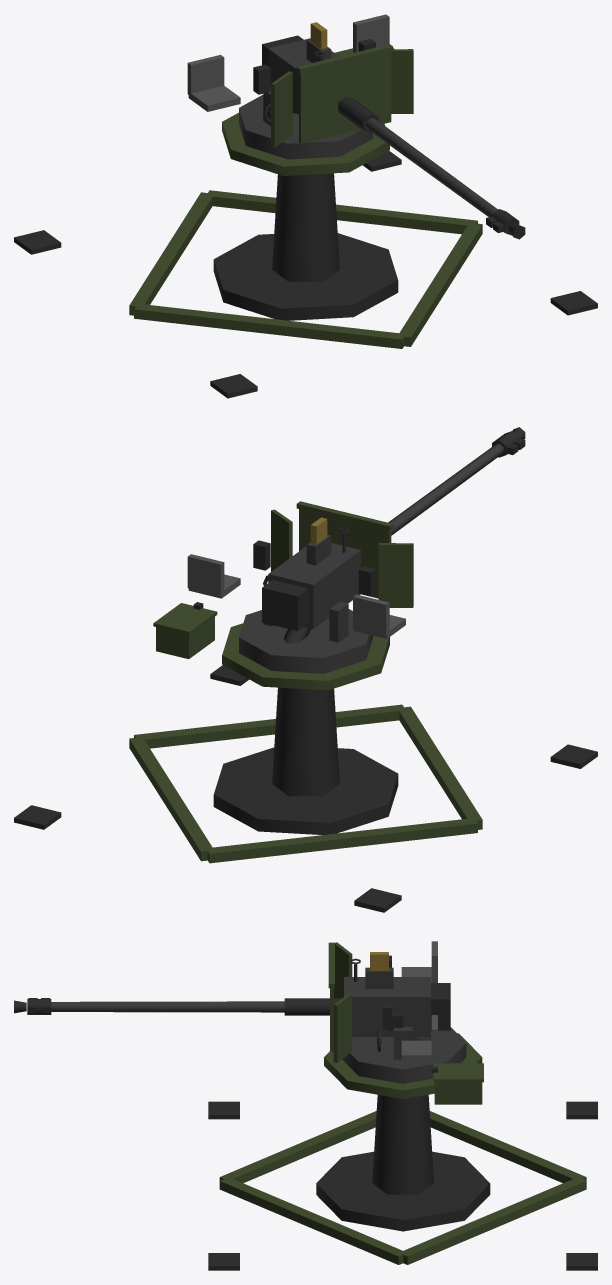
The picture shows the model from 3 angles, top to bottom: view 1: azimuth 30°, elevation 25°; view 2: azimuth 150°, elevation 25°; view 3: azimuth 270°, elevation 25°; orthographic projection. The views are drawn at different scales.
Visible parts, largest first — view 1: Mesh_TurntableBase, Mesh_Pedestal, Mesh_ShieldCenter, Mesh_LegBeam1, Mesh_Platform, Mesh_TraverseRing, Mesh_LegBeam3, Mesh_LegBeam0, Mesh_LegBeam2, Mesh_BarrelMain, Mesh_Receiver, Mesh_ShieldRight (+9 smaller); view 2: Mesh_TurntableBase, Mesh_Pedestal, Mesh_TraverseRing, Mesh_LegBeam2, Mesh_Receiver, Mesh_Platform, Mesh_LegBeam0, Mesh_LegBeam3, Mesh_ShieldCenter, Mesh_LegBeam1, Mesh_ShieldLeft, Mesh_Breech (+11 smaller); view 3: Mesh_TurntableBase, Mesh_Pedestal, Mesh_Receiver, Mesh_TraverseRing, Mesh_LegBeam0, Mesh_LegBeam3, Mesh_BarrelMain, Mesh_LegBeam1, Mesh_LegBeam2, Mesh_Platform, Mesh_ShieldRight, Mesh_AmmoBox (+11 smaller).
Part boxes in pixels (x1,y1,x2,y2): Mesh_TurntableBase: (213,233,398,320); Mesh_Pedestal: (272,173,339,281); Mesh_ShieldCenter: (299,52,391,143); Mesh_LegBeam1: (134,304,404,348); Mesh_Platform: (222,112,389,175); Mesh_TraverseRing: (239,95,372,159); Mesh_LegBeam3: (206,190,477,234); Mesh_LegBeam0: (398,223,482,346); Mesh_LegBeam2: (129,192,213,315); Mesh_BarrelMain: (366,118,497,217); Mesh_Receiver: (268,38,338,114); Mesh_ShieldRight: (391,49,413,113); Mesh_TurntableBase: (213,747,398,834); Mesh_Pedestal: (272,687,339,796); Mesh_TraverseRing: (239,609,372,673); Mesh_LegBeam2: (206,818,477,863); Mesh_Receiver: (268,543,360,628); Mesh_Platform: (222,623,389,690); Mesh_LegBeam0: (134,704,403,748); Mesh_LegBeam3: (129,737,213,861); Mesh_ShieldCenter: (299,509,391,598); Mesh_LegBeam1: (397,706,482,829); Mesh_ShieldLeft: (378,543,413,607); Mesh_Breech: (262,580,308,630); Mesh_TurntableBase: (316,1151,490,1231); Mesh_Pedestal: (372,1094,433,1194); Mesh_Receiver: (344,977,430,1036); Mesh_TraverseRing: (342,1027,466,1083); Mesh_LegBeam0: (219,1179,407,1264); Mesh_LegBeam3: (399,1179,586,1264); Mesh_BarrelMain: (51,1001,284,1012); Mesh_LegBeam1: (219,1111,376,1183); Mesh_LegBeam2: (429,1111,586,1182); Mesh_Platform: (324,1033,482,1098); Mesh_ShieldRight: (333,993,352,1062); Mesh_AmmoBox: (434,1082,482,1104).
Size of the model in its own units: 2.46 by 1.69 by 3.69.
